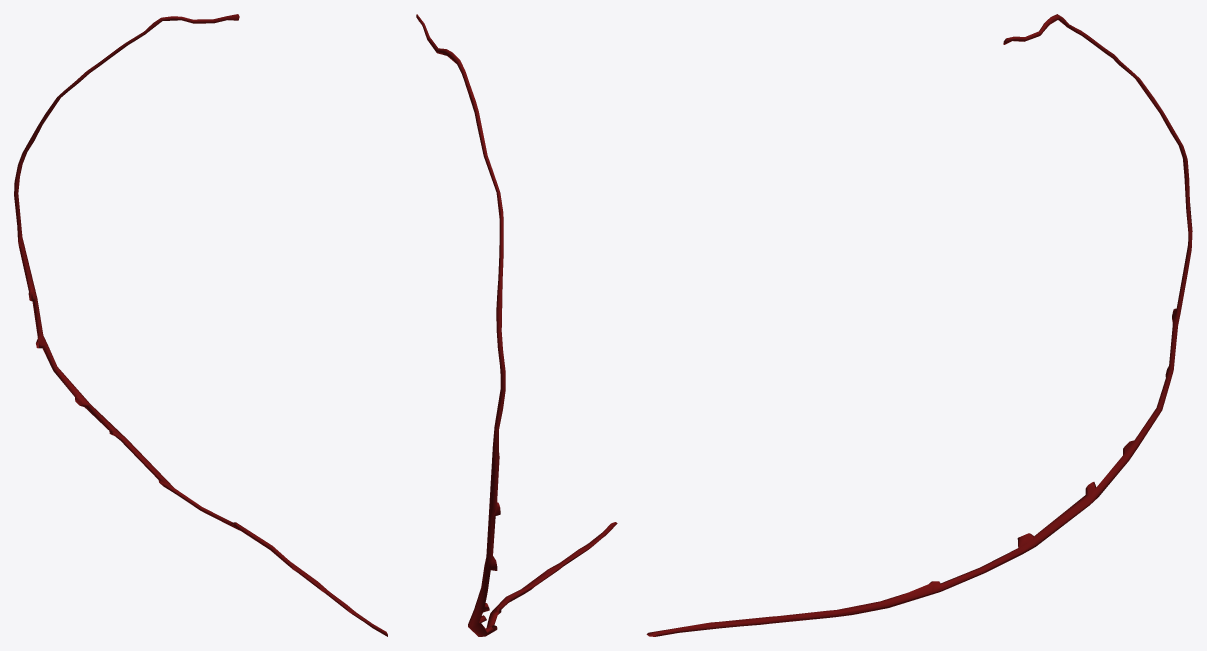
File: R arteria musculophrenica.fbx
The picture shows the model from 3 angles, left to right: view 1: azimuth 30°, elevation 25°; view 2: azimuth 150°, elevation 25°; view 3: azimuth 270°, elevation 25°; orthographic projection. The views are drawn at different scales.
Parts seen in each view (by area): view 1: R arteria musculophrenica, R arteria musculophrenica low; view 2: R arteria musculophrenica, R arteria musculophrenica low; view 3: R arteria musculophrenica, R arteria musculophrenica low.
Boxes of the visible parts, bbox=[...] form: R arteria musculophrenica: bbox=[14, 14, 387, 636]; R arteria musculophrenica low: bbox=[14, 17, 385, 632]; R arteria musculophrenica: bbox=[416, 14, 617, 636]; R arteria musculophrenica low: bbox=[418, 18, 614, 632]; R arteria musculophrenica: bbox=[647, 14, 1192, 636]; R arteria musculophrenica low: bbox=[647, 18, 1192, 636].
Bounding box in the file's own units: 12 × 39.83 × 32.88.
